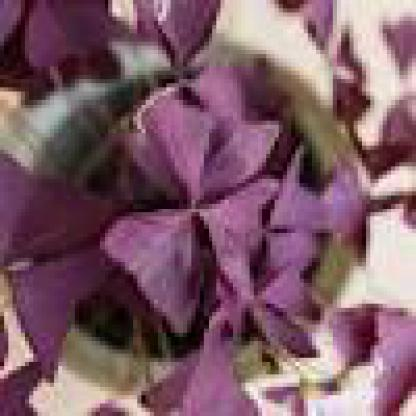Kenanga: (222, 22, 322, 167)
